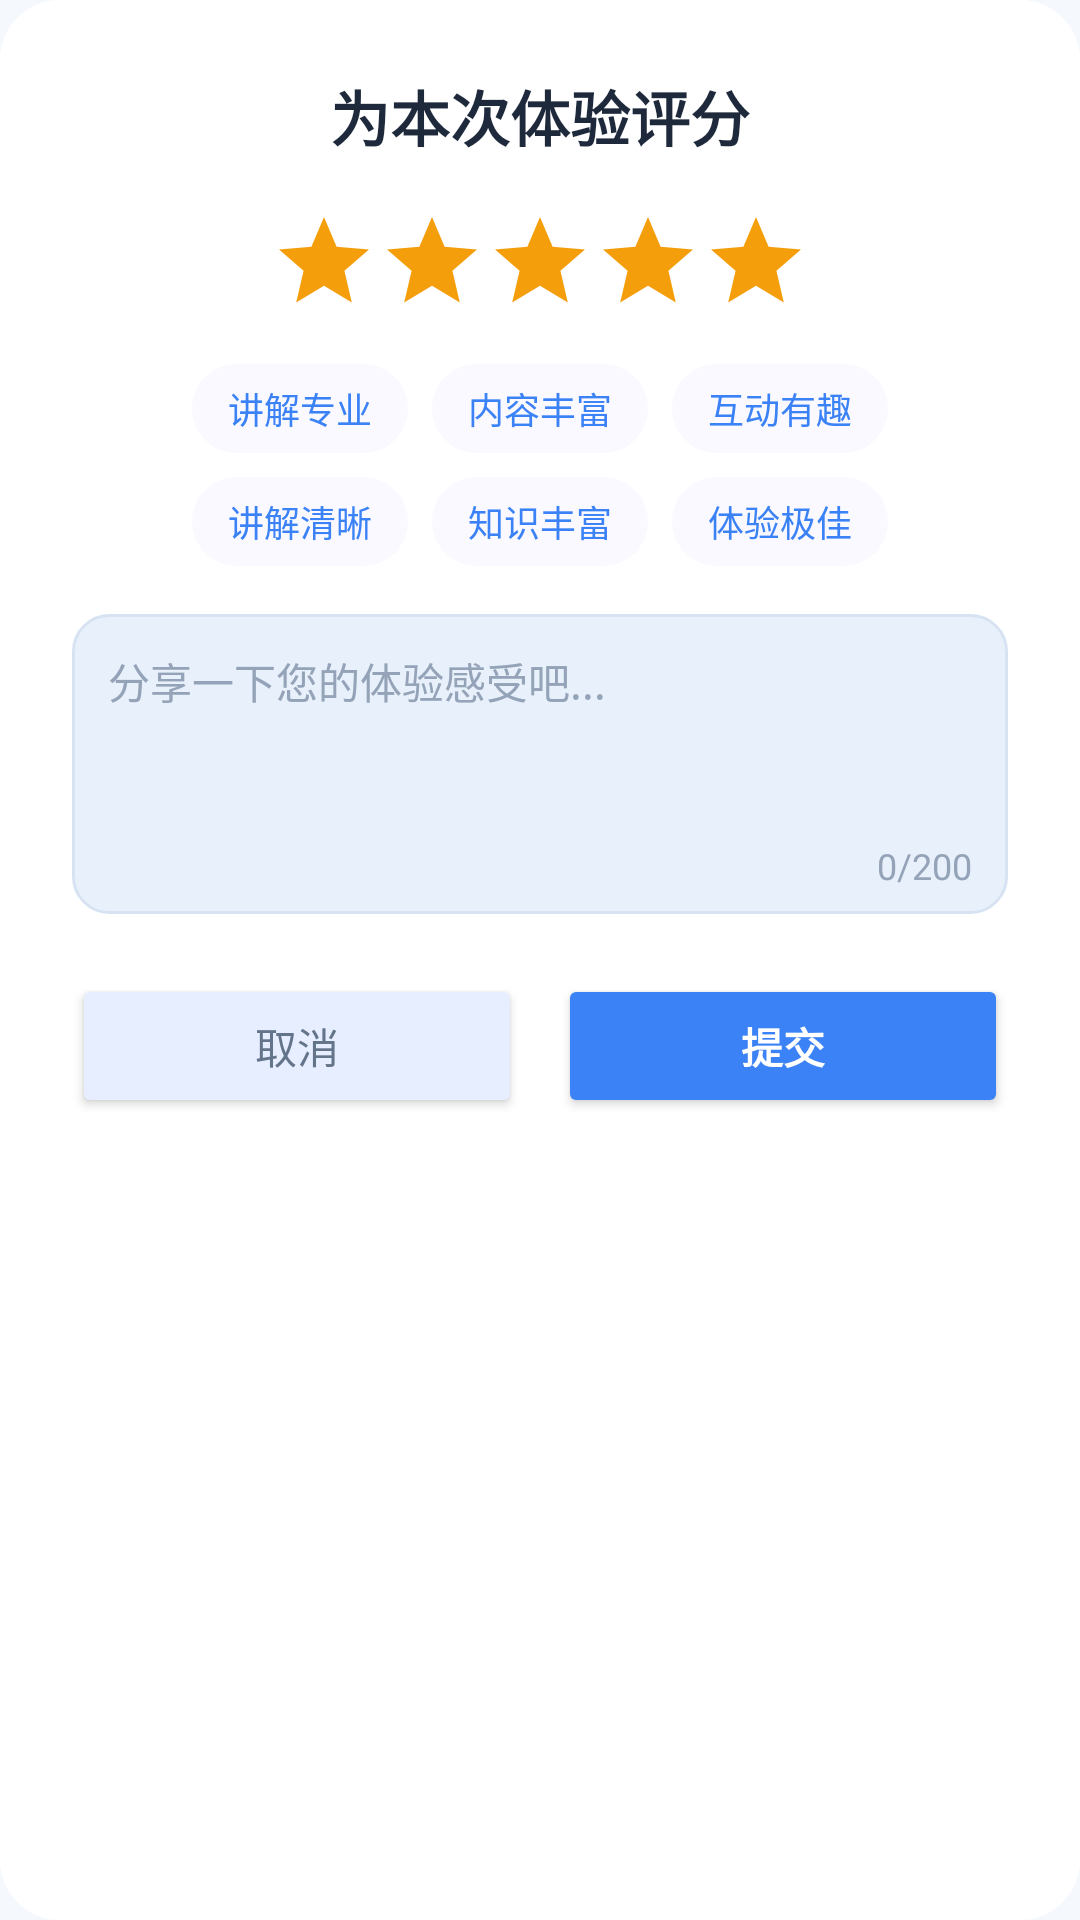

Where icons sit on this 1080 × 1920 app screen, as detection(x1, y1, x2, y2):
1星: detection(279, 217, 369, 303)
4星: detection(603, 217, 693, 303)
5星: detection(711, 217, 801, 303)
star: detection(387, 217, 477, 303), detection(495, 217, 585, 303)
